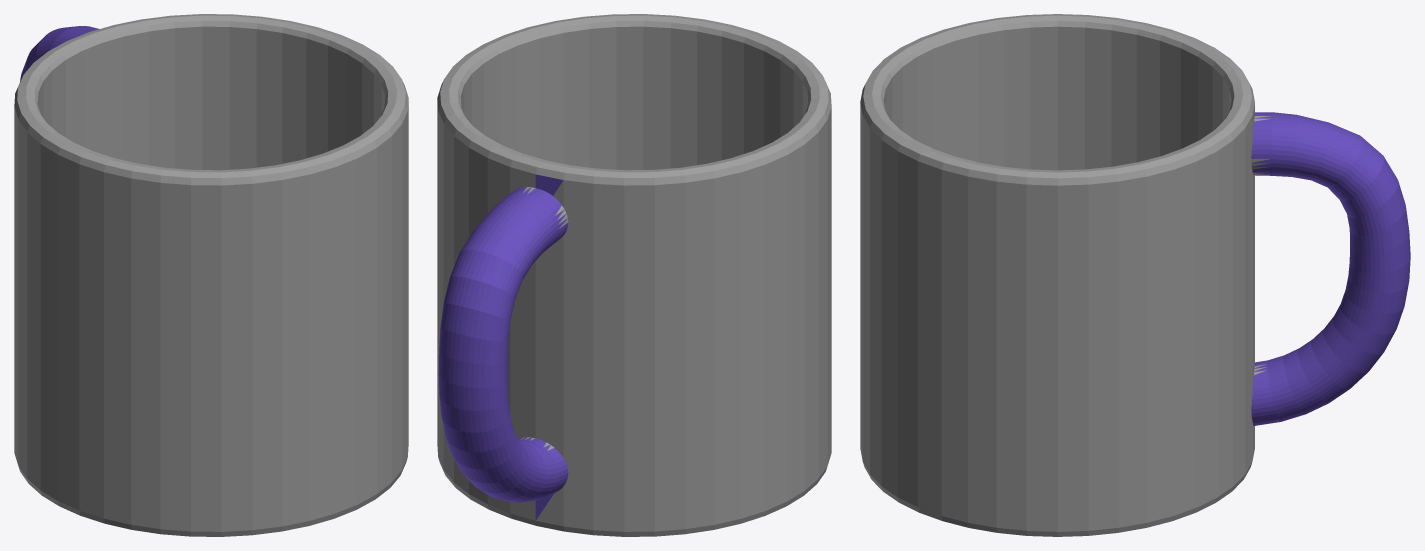
File: old.glb
The picture shows the model from 3 angles, left to right: view 1: azimuth 30°, elevation 25°; view 2: azimuth 150°, elevation 25°; view 3: azimuth 270°, elevation 25°; orthographic projection.
Visible parts, largest first — view 1: world; view 2: world; view 3: world.
Boxes of the visible parts, bbox=[...] form: world: bbox=[14, 14, 408, 536]; world: bbox=[437, 14, 831, 536]; world: bbox=[860, 14, 1410, 536].
Bounding box in the file's own units: 0.7171 × 0.726 × 1.
